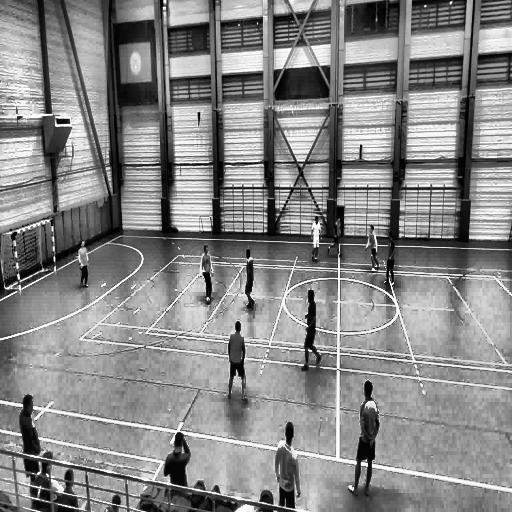ball: (206, 296, 210, 304)
player: (349, 379, 379, 497), (279, 421, 302, 509), (226, 321, 248, 402), (304, 289, 323, 371), (200, 245, 214, 303), (384, 230, 396, 286), (366, 224, 379, 274), (77, 242, 90, 288), (245, 249, 254, 309), (311, 215, 322, 262), (332, 217, 343, 258)
